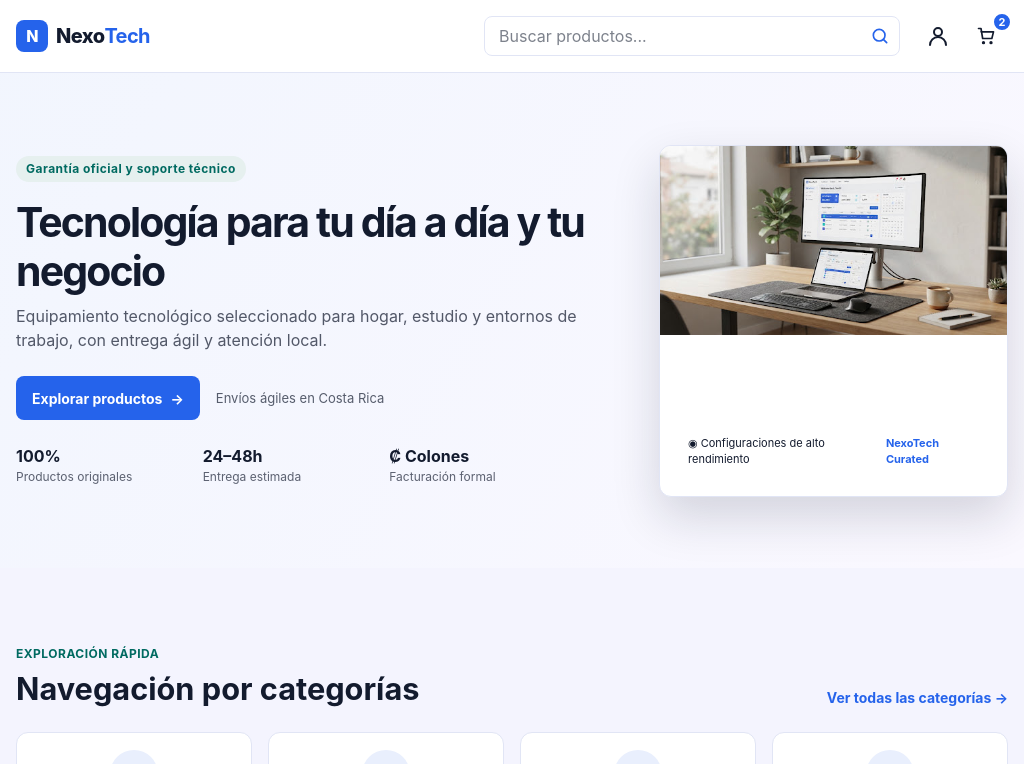
it: StoreHeader › abre el menú de cuenta y permite cerrar la sesión
Click the button named "Mi cuenta" at (938, 36), box [916,16,960,56]
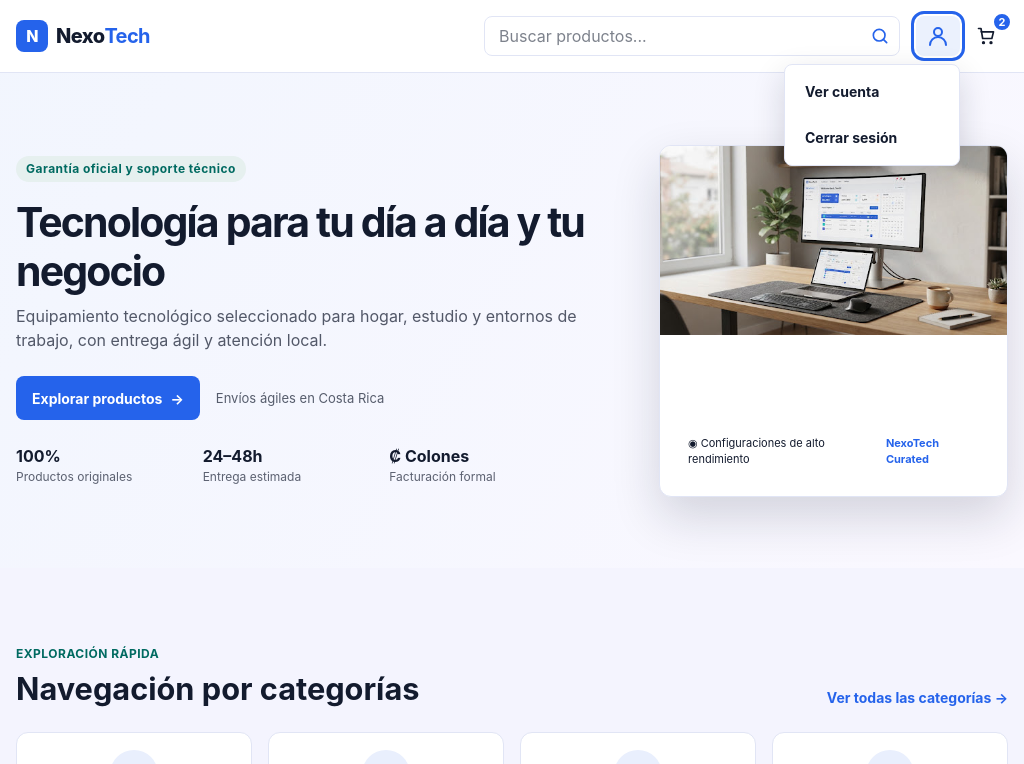
Click the button "Cerrar sesión" at (872, 137), box [793,117,951,157]
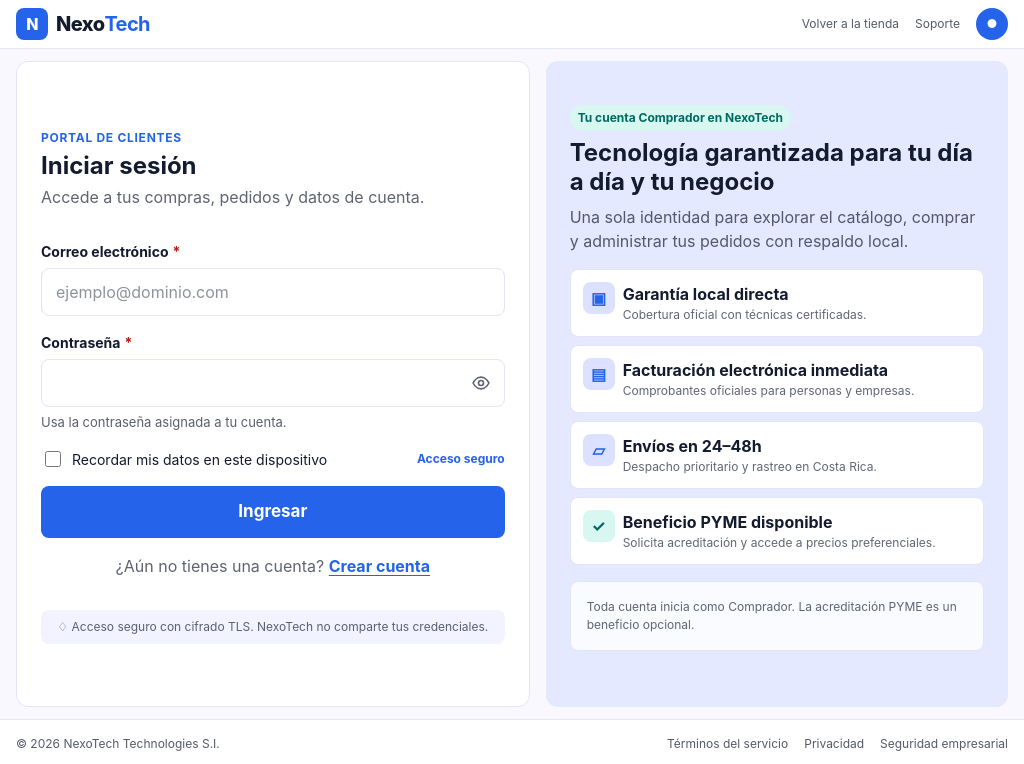
Expected: the heading "Iniciar sesión" is shown, [41,151,196,180]
